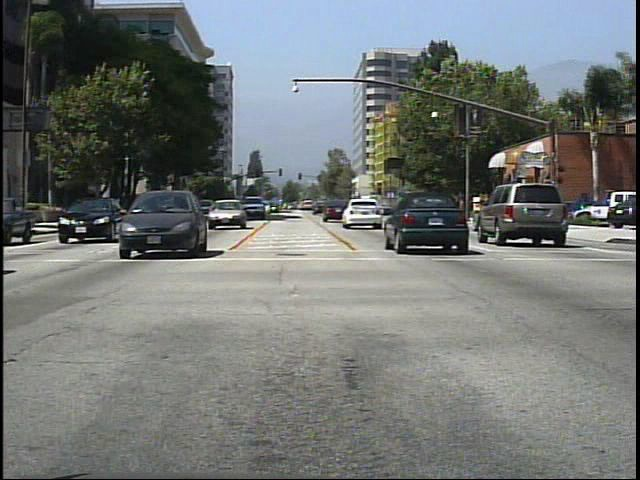person: (483, 189, 501, 225), (515, 195, 533, 230)
